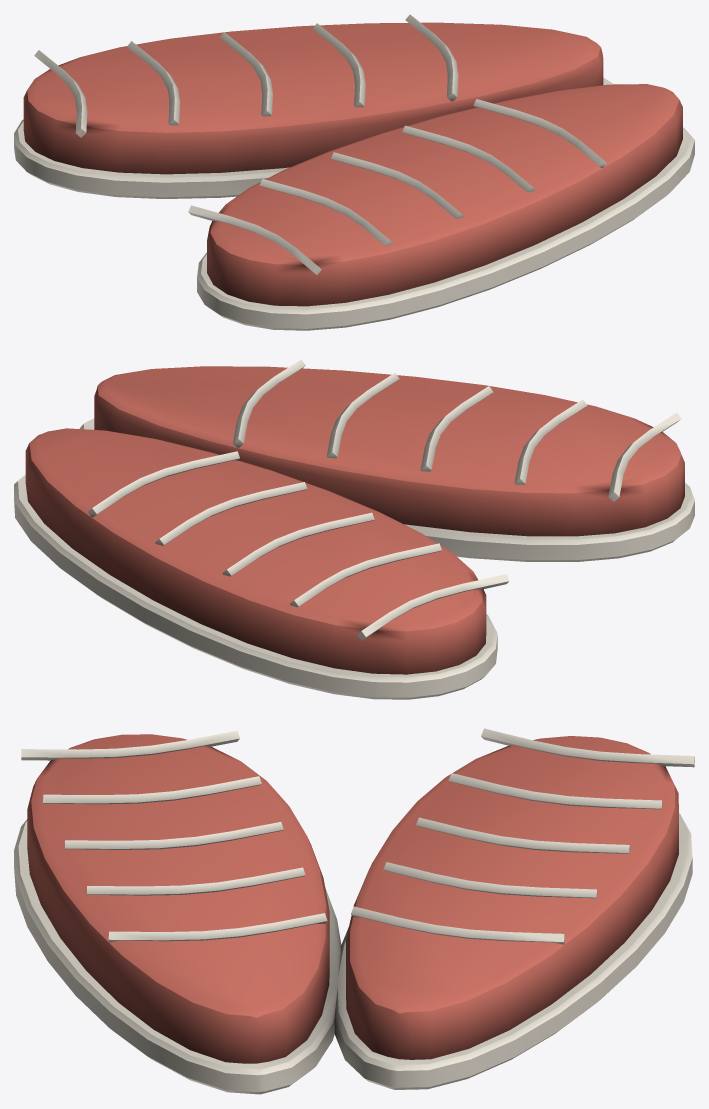
Rendered from prep_fillet.glb.
3 views of the same model, one above another, from view 1: azimuth 30°, elevation 25°; view 2: azimuth 150°, elevation 25°; view 3: azimuth 270°, elevation 25° (orthographic). The views are drawn at different scales.
Parts seen in each view (by area): view 1: PART; view 2: PART; view 3: PART.
Boxes of the visible parts, <box> form: PART: <box>14,14,694,330</box>; PART: <box>14,359,694,699</box>; PART: <box>14,728,694,1094</box>.
Size of the model in its own units: 0.1581 by 0.0205 by 0.1533.
